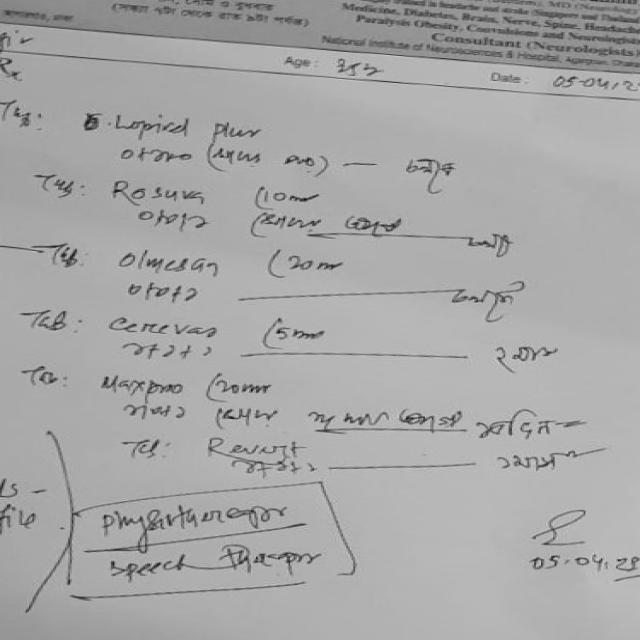medicine: (114, 106, 266, 142), (112, 240, 232, 280), (102, 176, 220, 208), (104, 312, 233, 341), (198, 432, 316, 461), (88, 368, 190, 398)
